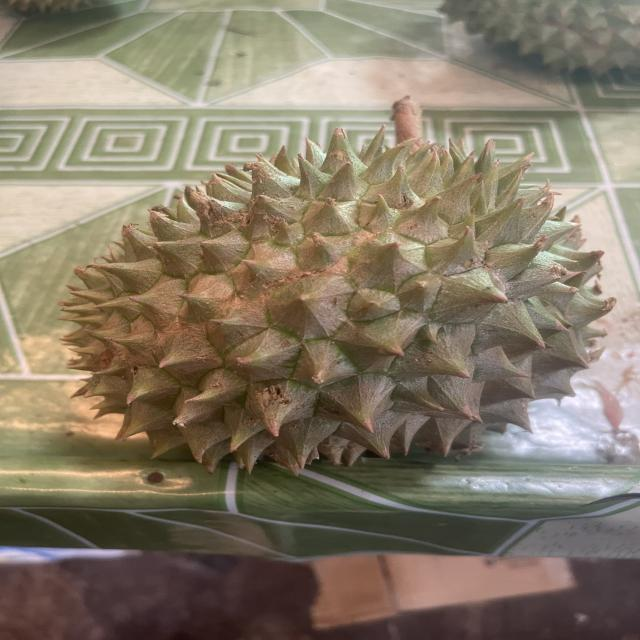mature: (56, 127, 623, 478)
